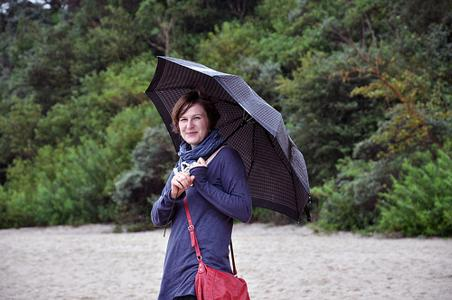person: (151, 89, 252, 300)
